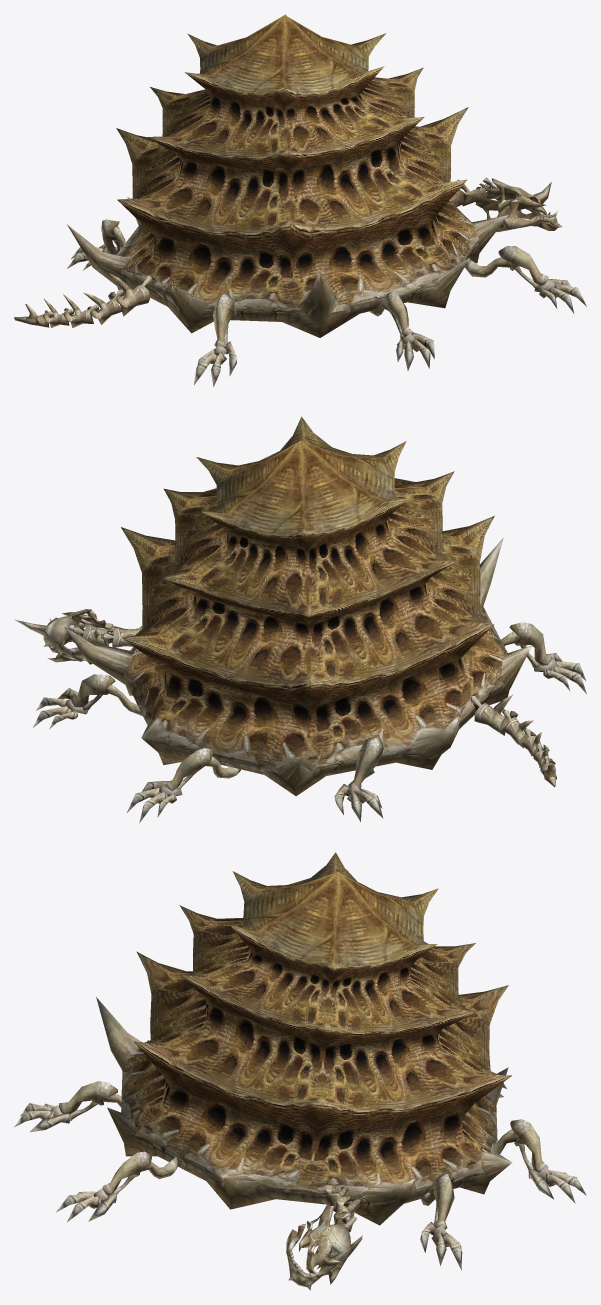
File: w_cd_b_bigtortoise01.glb
3 views of the same model, one above another, from view 1: azimuth 30°, elevation 25°; view 2: azimuth 150°, elevation 25°; view 3: azimuth 270°, elevation 25° (orthographic). The views are drawn at different scales.
Parts seen in each view (by area): view 1: W_cd_B_bigtortoise01; view 2: W_cd_B_bigtortoise01; view 3: W_cd_B_bigtortoise01.
Part boxes in pixels (x1,y1,x2,y2): W_cd_B_bigtortoise01: (14,14,586,386); W_cd_B_bigtortoise01: (14,416,586,822); W_cd_B_bigtortoise01: (14,852,586,1290).
Bounding box in the file's own units: 113 × 58.66 × 99.69.
Materials: 1 (1 with a texture image).
